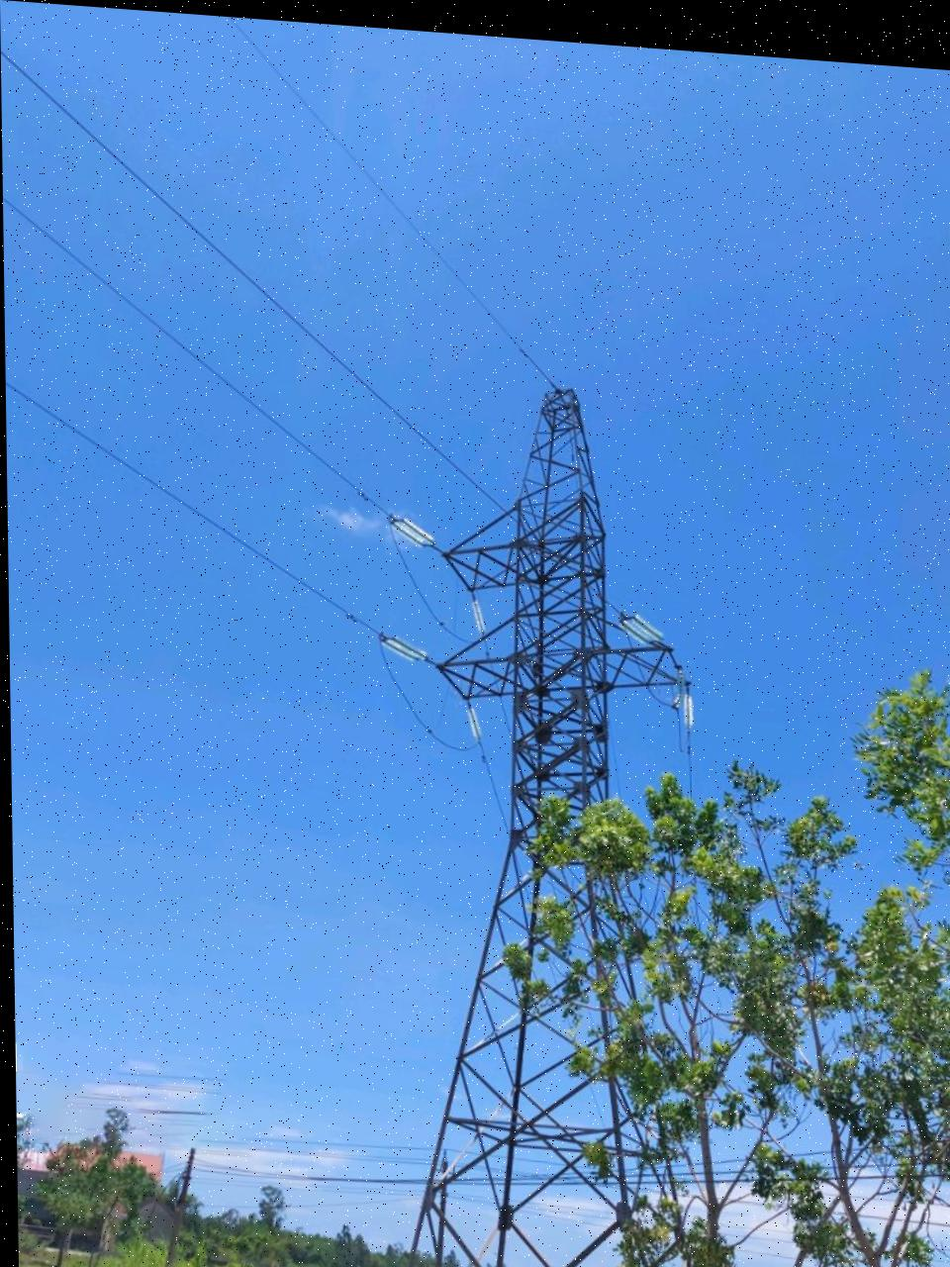tower: (379, 360, 727, 1267)
